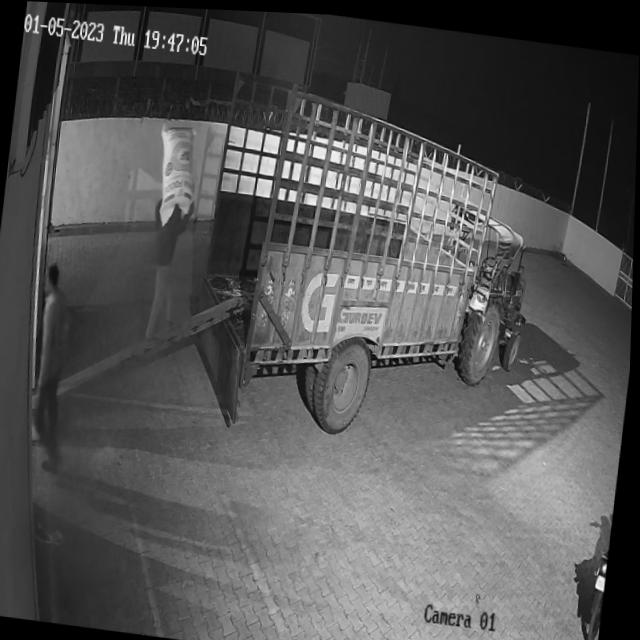sack: (152, 118, 201, 228)
